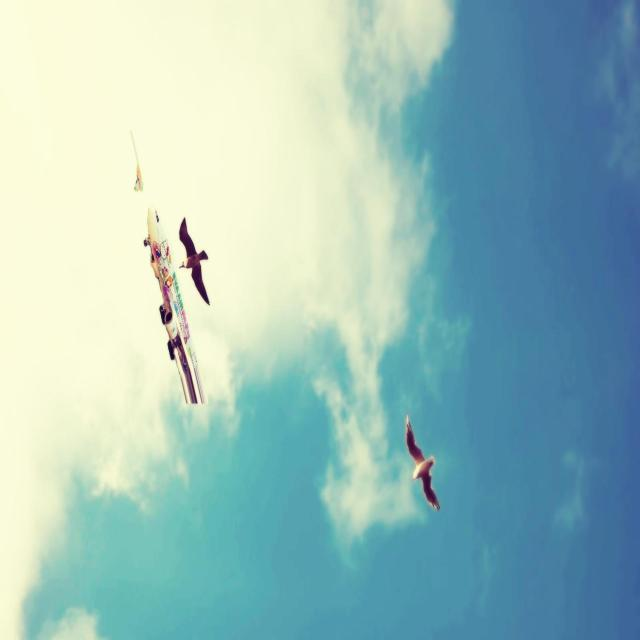airplane: (143, 205, 209, 405)
